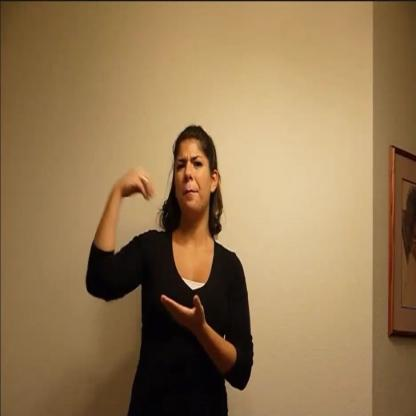Expensive: (110, 172, 219, 346)
